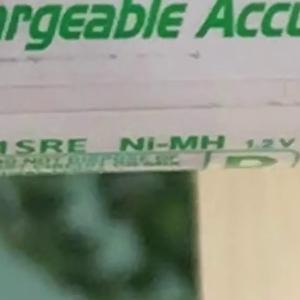NI-MH: (111, 126, 234, 160)
